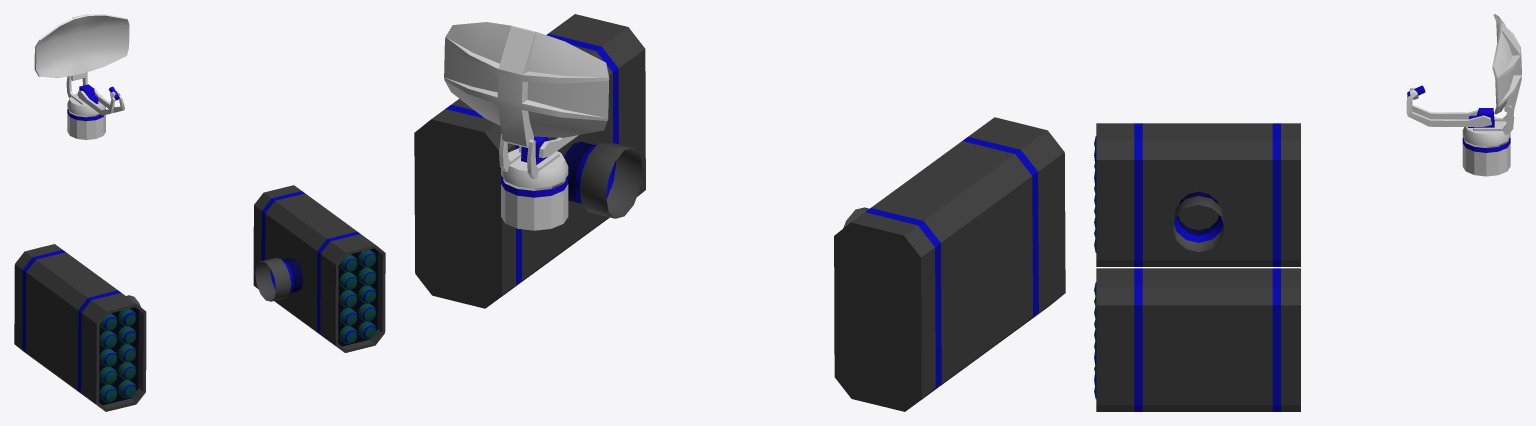
File: RocketsYradar.FBX
3 renders of one model, left to right at view 1: azimuth 30°, elevation 25°; view 2: azimuth 150°, elevation 25°; view 3: azimuth 270°, elevation 25°, orthographic. The views are drawn at different scales.
Visible parts, largest first — view 1: rocketDER, rocketIZQ, Radar; view 2: rocketDER, rocketIZQ, Radar; view 3: rocketIZQ, rocketDER, Radar.
Boxes of the visible parts, x1,y1,x2,y2 form: rocketDER: (14, 244, 146, 411); rocketIZQ: (253, 185, 385, 352); Radar: (34, 14, 129, 139); rocketDER: (834, 117, 1065, 411); rocketIZQ: (414, 14, 645, 308); Radar: (444, 22, 609, 230); rocketIZQ: (1094, 268, 1300, 411); rocketDER: (1094, 123, 1300, 266); Radar: (1406, 14, 1521, 176).
Bounding box in the file's own units: 179 × 144 × 183.
